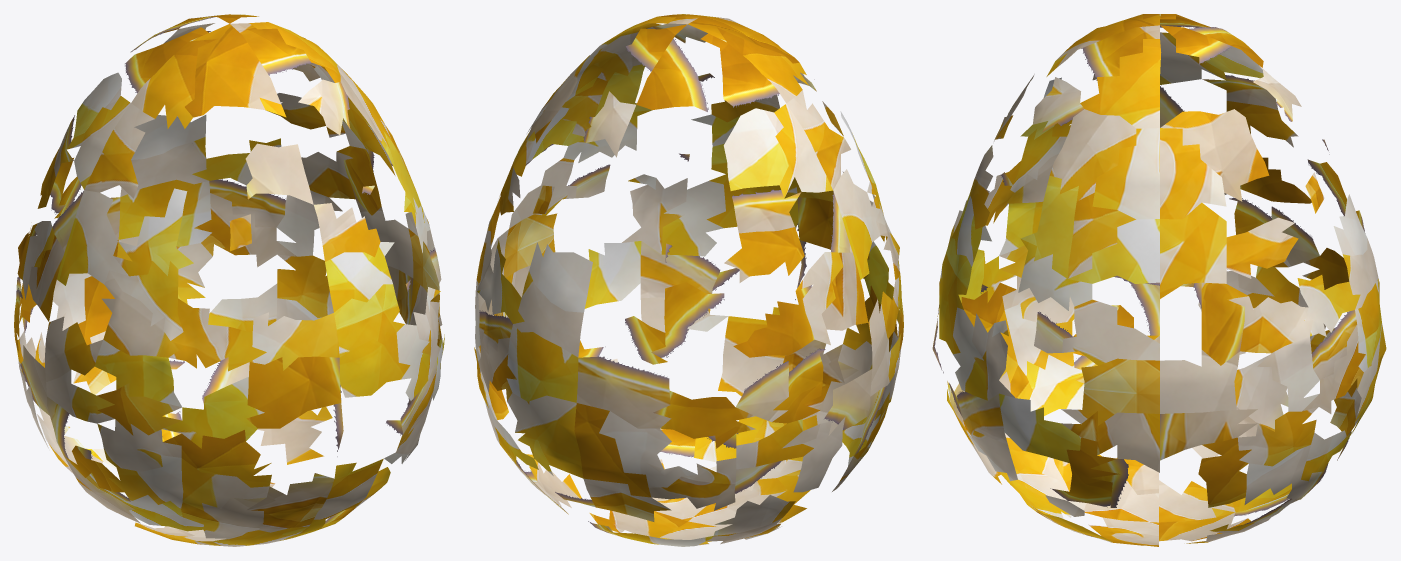
The model's file is solar_egg.obj.
3 views of the same model, side by side, from view 1: azimuth 30°, elevation 25°; view 2: azimuth 150°, elevation 25°; view 3: azimuth 270°, elevation 25° (orthographic).
Parts seen in each view (by area): view 1: solar_egg; view 2: solar_egg; view 3: solar_egg.
Boxes of the visible parts, x1,y1,x2,y2 form: solar_egg: (14,14,444,546); solar_egg: (474,14,903,546); solar_egg: (932,14,1386,546).
Bounding box in the file's own units: 1.48 × 1.91 × 1.58.
